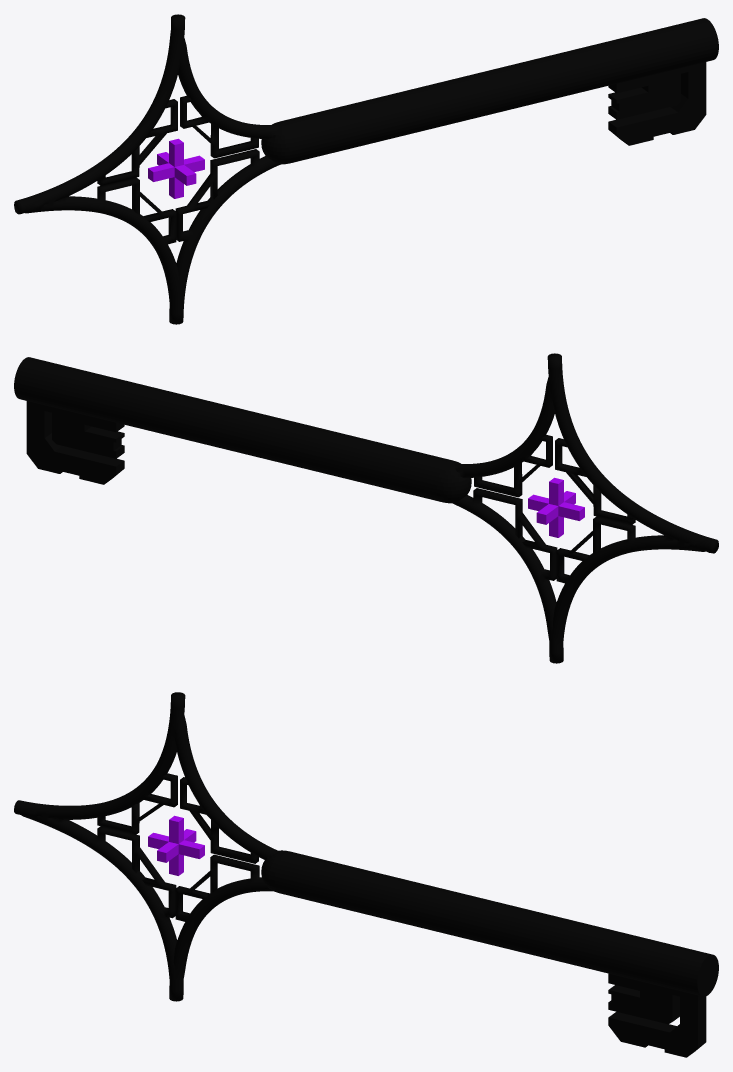
Rendered from Key.fbx.
The picture shows the model from 3 angles, top to bottom: view 1: azimuth 30°, elevation 25°; view 2: azimuth 150°, elevation 25°; view 3: azimuth 330°, elevation 25°; orthographic projection.
Visible parts, largest first — view 1: Key, MagicPlus; view 2: Key, MagicPlus; view 3: Key, MagicPlus.
Part boxes in pixels (x1,y1,x2,y2): Key: [14, 14, 718, 324]; MagicPlus: [148, 138, 204, 198]; Key: [14, 353, 718, 663]; MagicPlus: [528, 477, 584, 537]; Key: [14, 692, 718, 1057]; MagicPlus: [148, 815, 204, 875].
Size of the model in its own units: 492 by 207 by 36.78.
